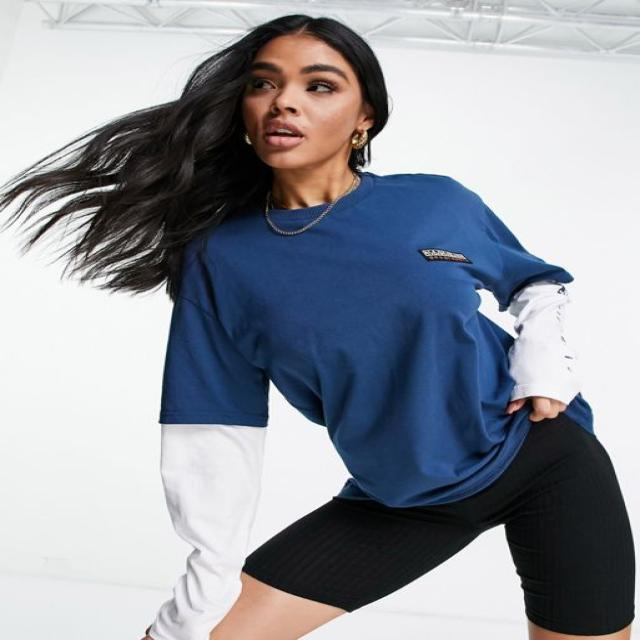tshirt: (153, 169, 589, 507)
